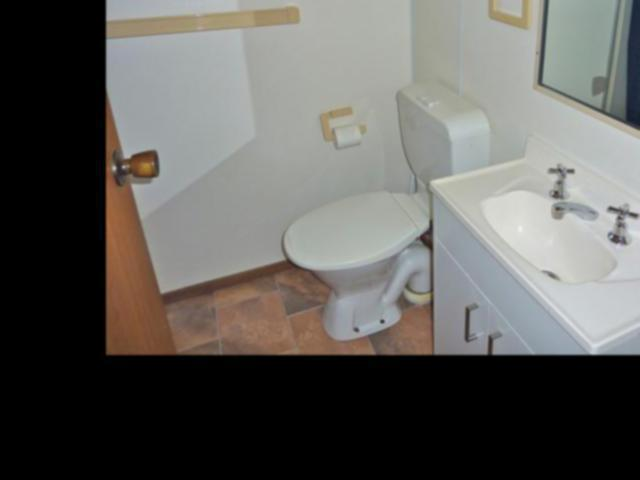Lavamanos: (471, 160, 640, 294)
Sanitario: (279, 83, 488, 340)
